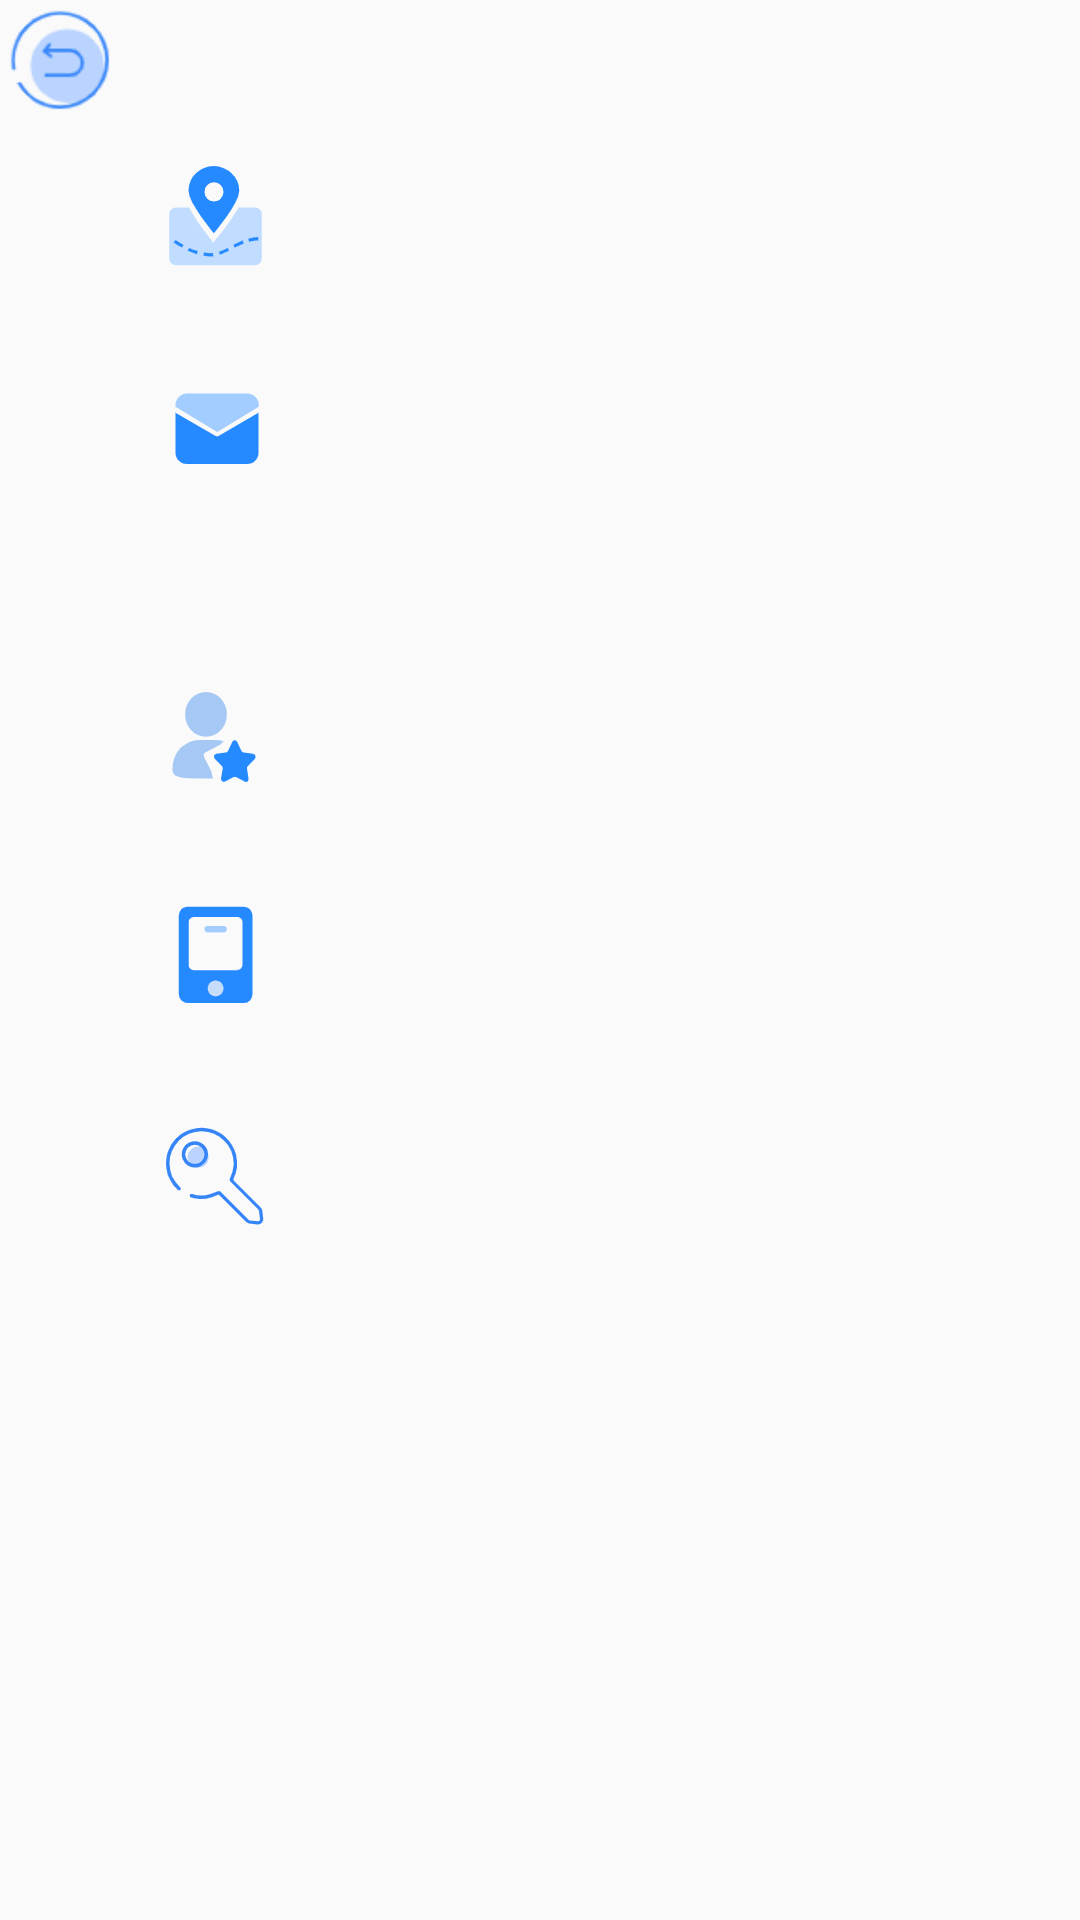

Icon bounding boxes for this 1080 × 1920 phone screenshot, format {"x1": x1, "y1": y1, "x2": x2, "y2": y2}:
address: {"x1": 169, "y1": 166, "x2": 262, "y2": 265}
back: {"x1": 11, "y1": 11, "x2": 109, "y2": 109}
email address: {"x1": 175, "y1": 393, "x2": 259, "y2": 464}
key id: {"x1": 166, "y1": 1127, "x2": 264, "y2": 1225}
phone number: {"x1": 178, "y1": 906, "x2": 253, "y2": 1003}
